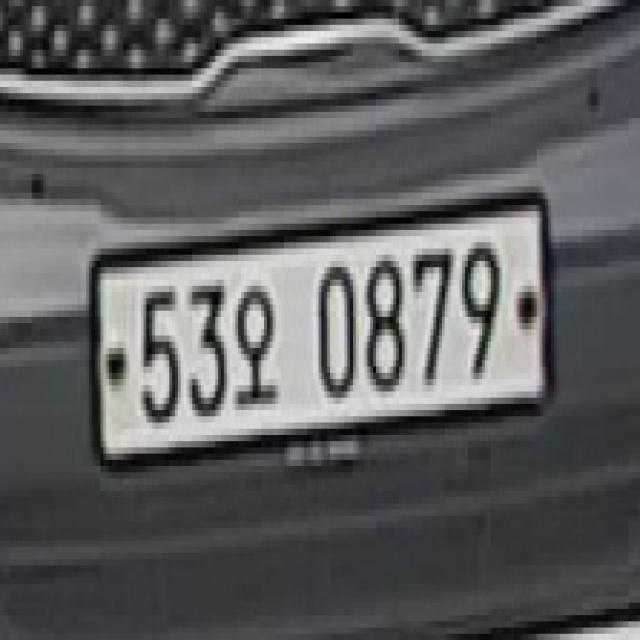0: (310, 242, 353, 422)
5: (184, 261, 232, 429), (132, 273, 178, 435)
7: (402, 242, 459, 404)
8: (356, 230, 407, 429)
9: (453, 218, 508, 422)
license_plate: (86, 186, 560, 491)
o: (230, 273, 278, 410)
